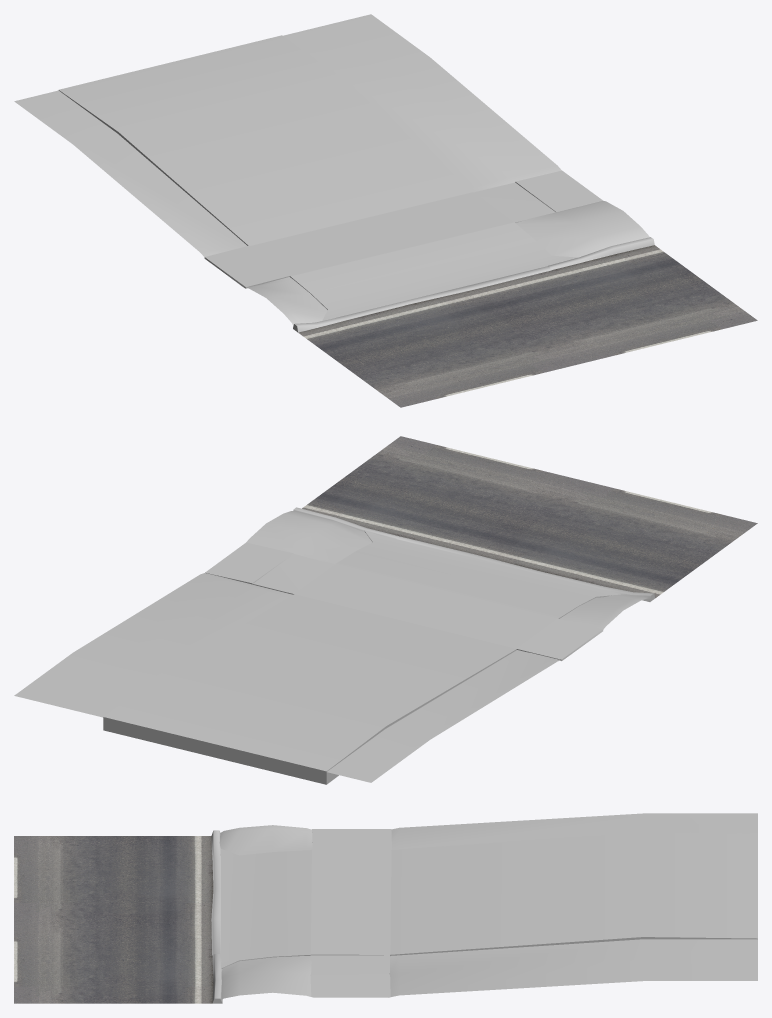
Rendered from Road_Driveway.FBX.
The picture shows the model from 3 angles, top to bottom: view 1: azimuth 30°, elevation 25°; view 2: azimuth 150°, elevation 25°; view 3: azimuth 270°, elevation 25°; orthographic projection. The views are drawn at different scales.
Parts seen in each view (by area): view 1: Road_Driveway; view 2: Road_Driveway; view 3: Road_Driveway.
Part boxes in pixels (x1,y1,x2,y2): Road_Driveway: (14, 14, 757, 407); Road_Driveway: (14, 436, 757, 784); Road_Driveway: (14, 813, 757, 1003).
Bounding box in the file's own units: 801 × 70.4 × 1500.
